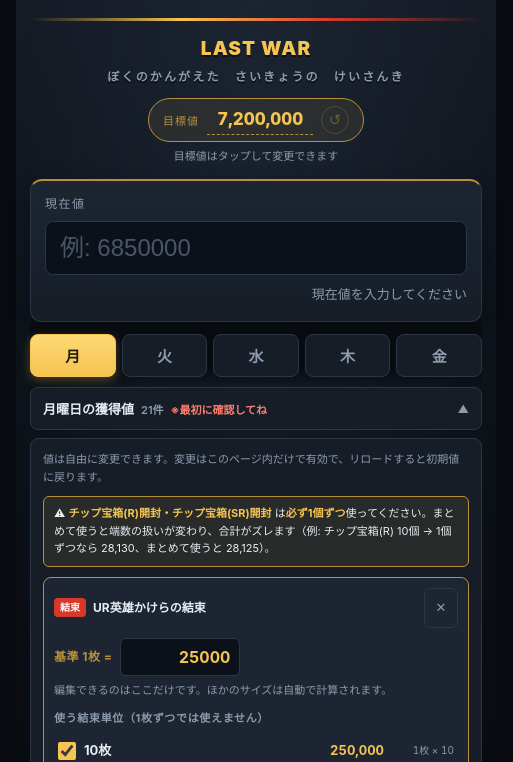
Test case: Calc: グループ（加速・結束） › 結束の基準値が空なら 1個あたりの値を求める
Click the tab named "火曜日": [164, 356] box [122,334,207,377]
(page scrolled)
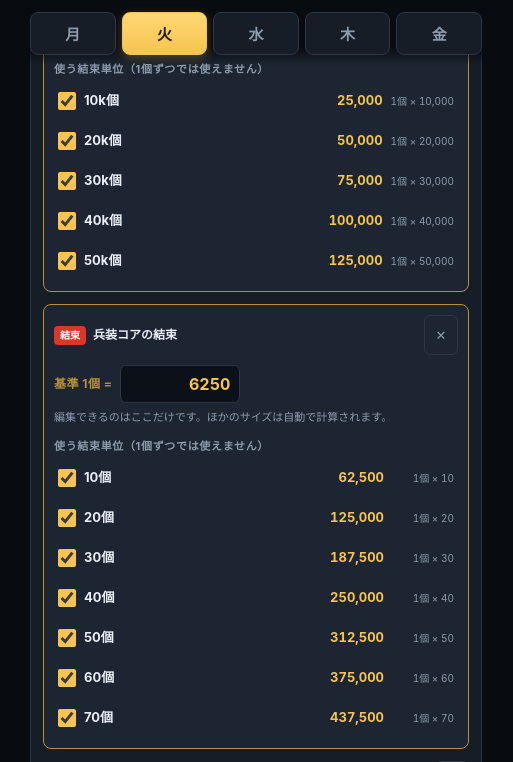
Clear the field named "兵装コアの基準値（1個あたり）": [180, 384] box [120,365,240,403]
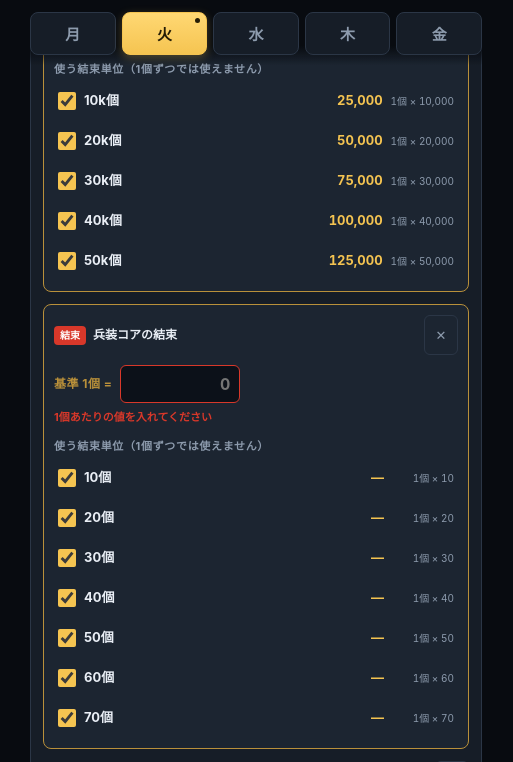
Now the text "1個あたりの値を入れてください" is shown, box [54,410,212,424]
